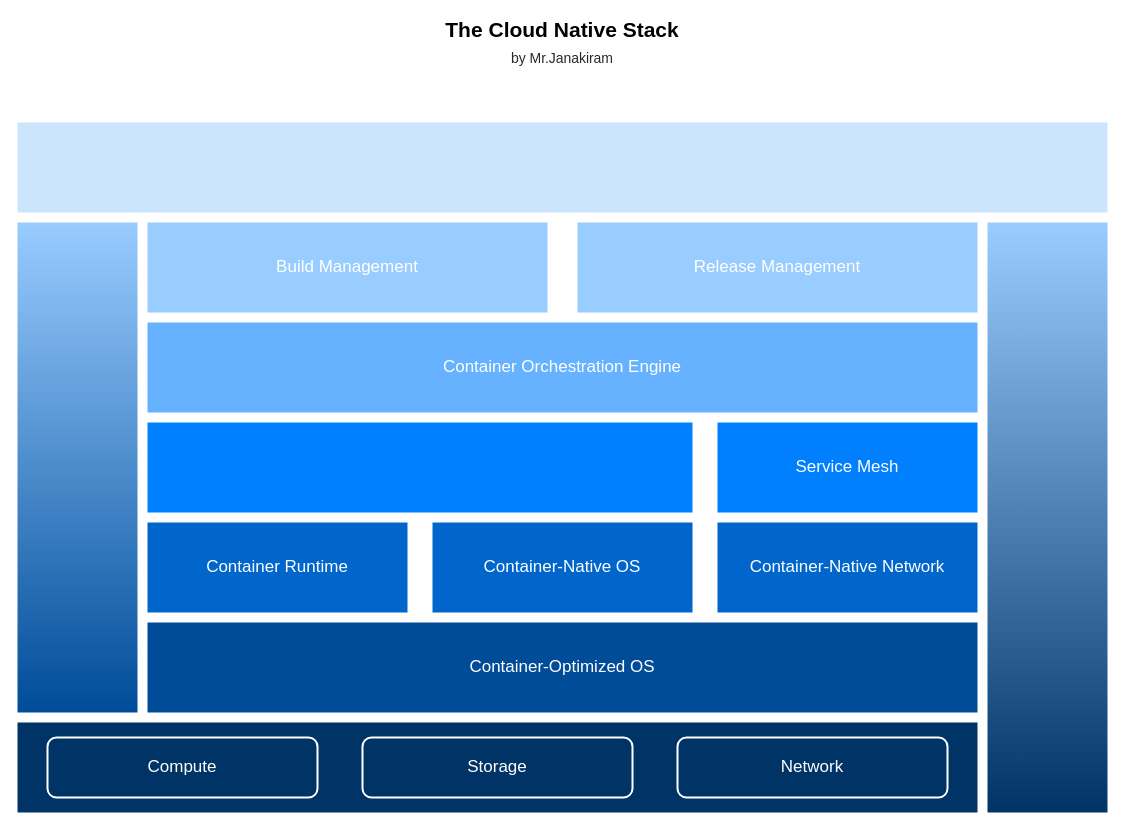
The diagram is 1124 pixels wide and 829 high, and some of its shapes have lost their labels. Each missing label, with the centre of its shape:
"Container Registry" goes at [77,467].
"Developer Experience" goes at [562,167].
"Observability" goes at [1047,517].
"Security & Hardening" goes at [419,467].
